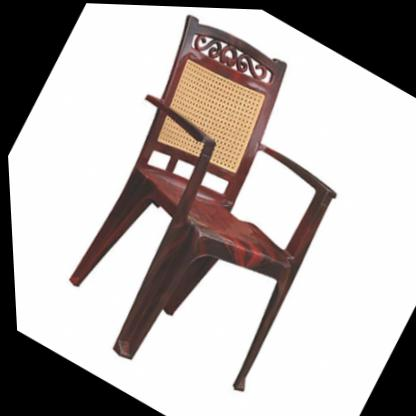Chair: (18, 1, 397, 416)
